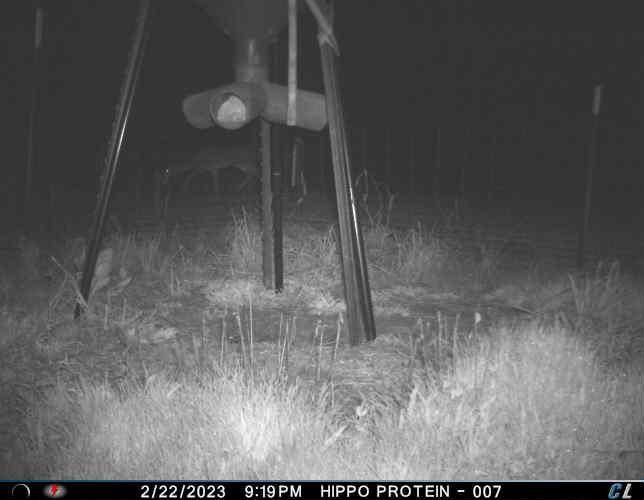Deer: (159, 141, 258, 205)
